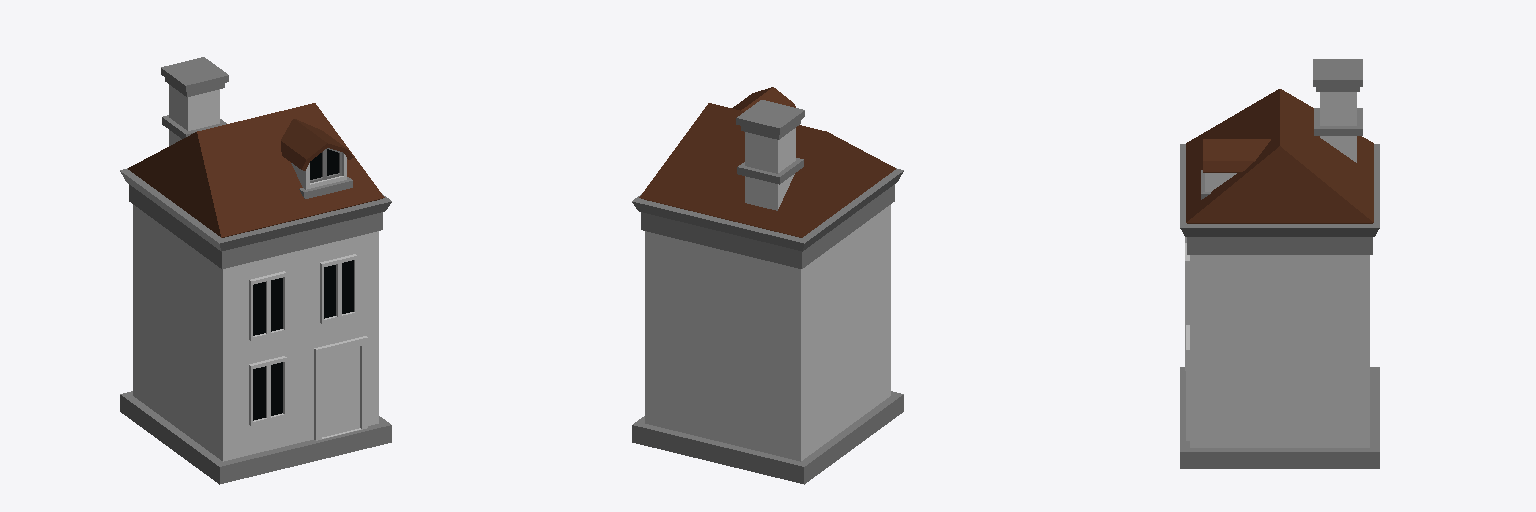
File: House1Copy.obj
The picture shows the model from 3 angles: view 1: azimuth 30°, elevation 25°; view 2: azimuth 150°, elevation 25°; view 3: azimuth 270°, elevation 25°; orthographic projection.
Visible parts, largest first — view 1: HouseWalls, Cube, Chimney, RoofWindow, Cube.001, Cube.002, Cube.003; view 2: HouseWalls, Chimney, RoofWindow; view 3: HouseWalls, Chimney, RoofWindow.
Part boxes in pixels (left/top/right/bottom): HouseWalls: left=120, top=103, right=391, bottom=484; Cube: left=314, top=336, right=367, bottom=440; Chimney: left=161, top=57, right=228, bottom=145; RoofWindow: left=281, top=119, right=353, bottom=198; Cube.001: left=249, top=356, right=286, bottom=425; Cube.002: left=249, top=271, right=286, bottom=341; Cube.003: left=320, top=254, right=356, bottom=323; HouseWalls: left=632, top=103, right=903, bottom=484; Chimney: left=736, top=100, right=804, bottom=210; RoofWindow: left=732, top=87, right=795, bottom=110; HouseWalls: left=1180, top=89, right=1379, bottom=468; Chimney: left=1313, top=59, right=1362, bottom=162; RoofWindow: left=1201, top=139, right=1270, bottom=199.
Bounding box in the file's own units: 8.56 × 16.18 × 8.56.